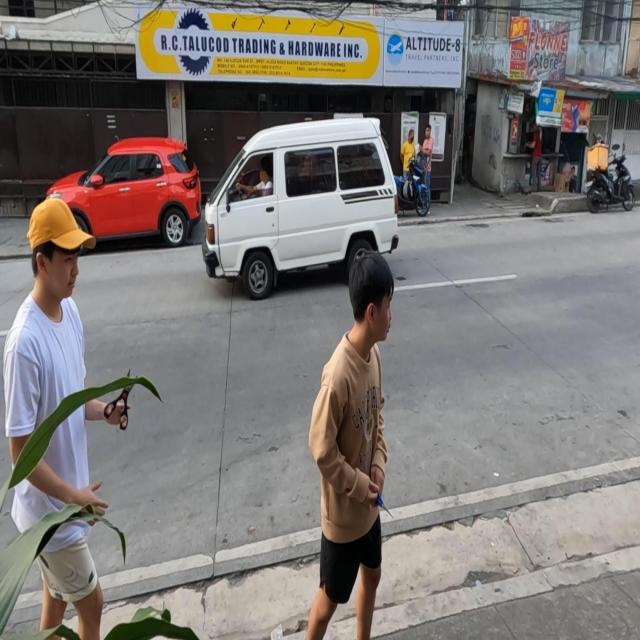scissor: (102, 368, 138, 433), (371, 487, 395, 521)
